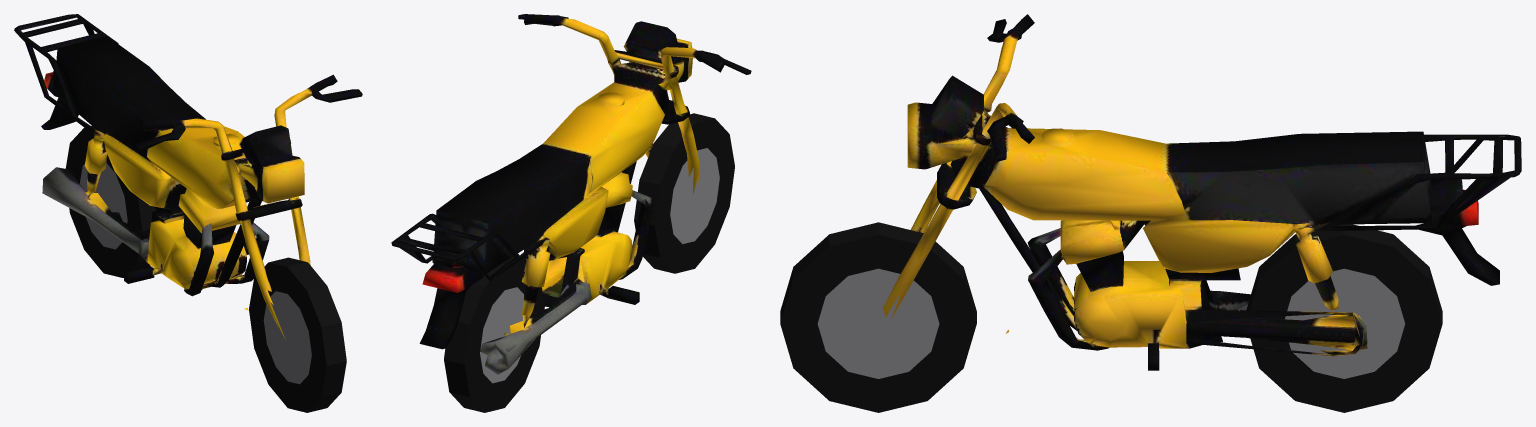
File: okada.glb
The picture shows the model from 3 angles, left to right: view 1: azimuth 30°, elevation 25°; view 2: azimuth 150°, elevation 25°; view 3: azimuth 270°, elevation 25°; orthographic projection. The views are drawn at different scales.
Visible parts, largest first — view 1: okada, wheel_f, wheel_r; view 2: okada, wheel_f, wheel_r; view 3: okada, wheel_f, wheel_r.
Part boxes in pixels (bbox=[...]): okada: bbox=[14, 14, 362, 339]; wheel_f: bbox=[249, 257, 346, 412]; wheel_r: bbox=[65, 126, 156, 277]; okada: bbox=[391, 14, 751, 374]; wheel_f: bbox=[634, 113, 734, 273]; wheel_r: bbox=[444, 256, 544, 412]; okada: bbox=[883, 14, 1521, 370]; wheel_f: bbox=[780, 222, 976, 412]; wheel_r: bbox=[1246, 224, 1442, 412].
Bounding box in the file's own units: 1.14 × 1.3 × 2.61.
1 material, 1 textured.
